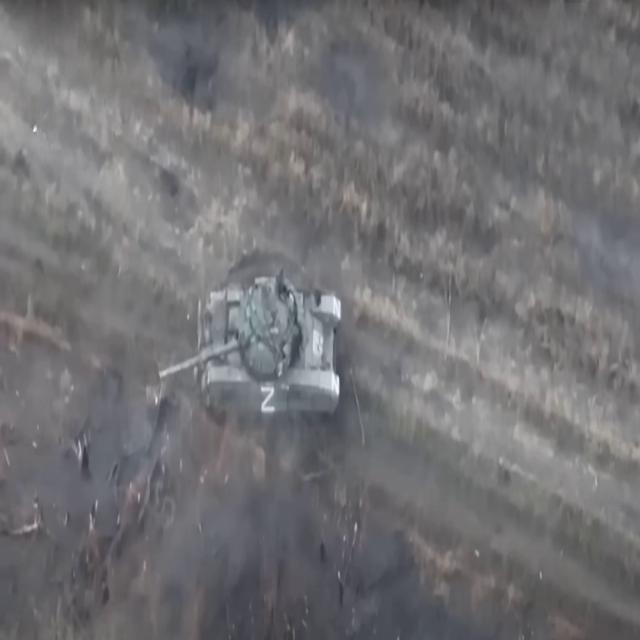MBT: (159, 270, 345, 432)
